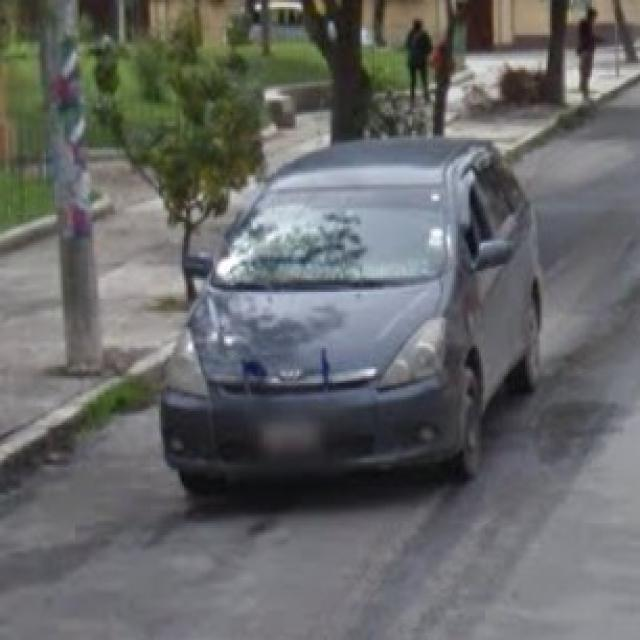Car: (171, 148, 538, 519)
